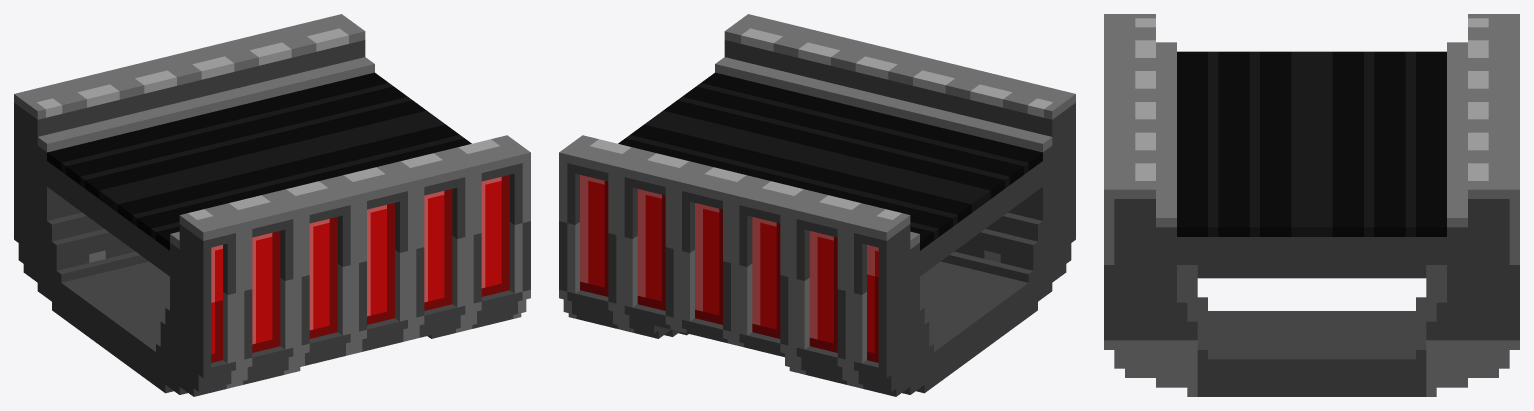
Rendered from ConveyorBelt.obj.
3 renders of one model, left to right at view 1: azimuth 30°, elevation 25°; view 2: azimuth 150°, elevation 25°; view 3: azimuth 270°, elevation 25°, orthographic. The views are drawn at different scales.
Bounding box in the file's own units: 4 × 2.2 × 4.
1 material, 1 textured.
